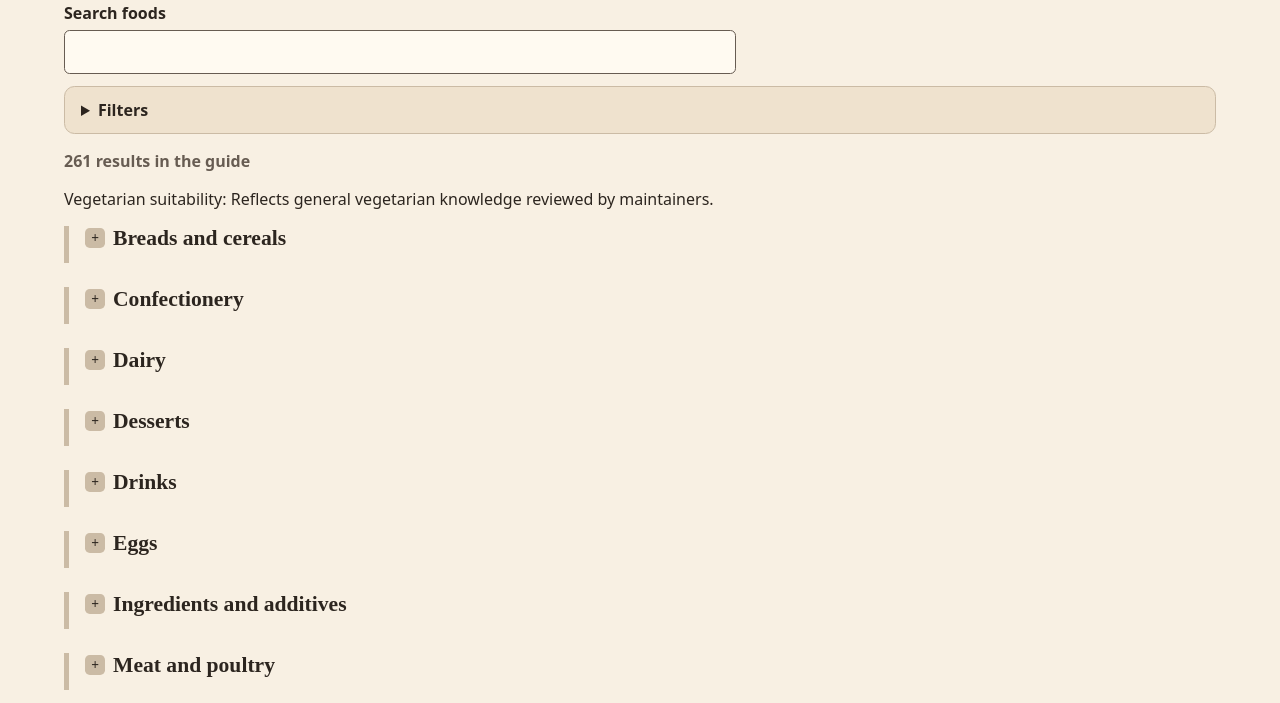
Test: CataloguePage › collapses an expanded nested group without affecting its siblings
(page scrolled)
Click the button "+ Dairy". click: (125, 360)
box: [85,348,166,373]
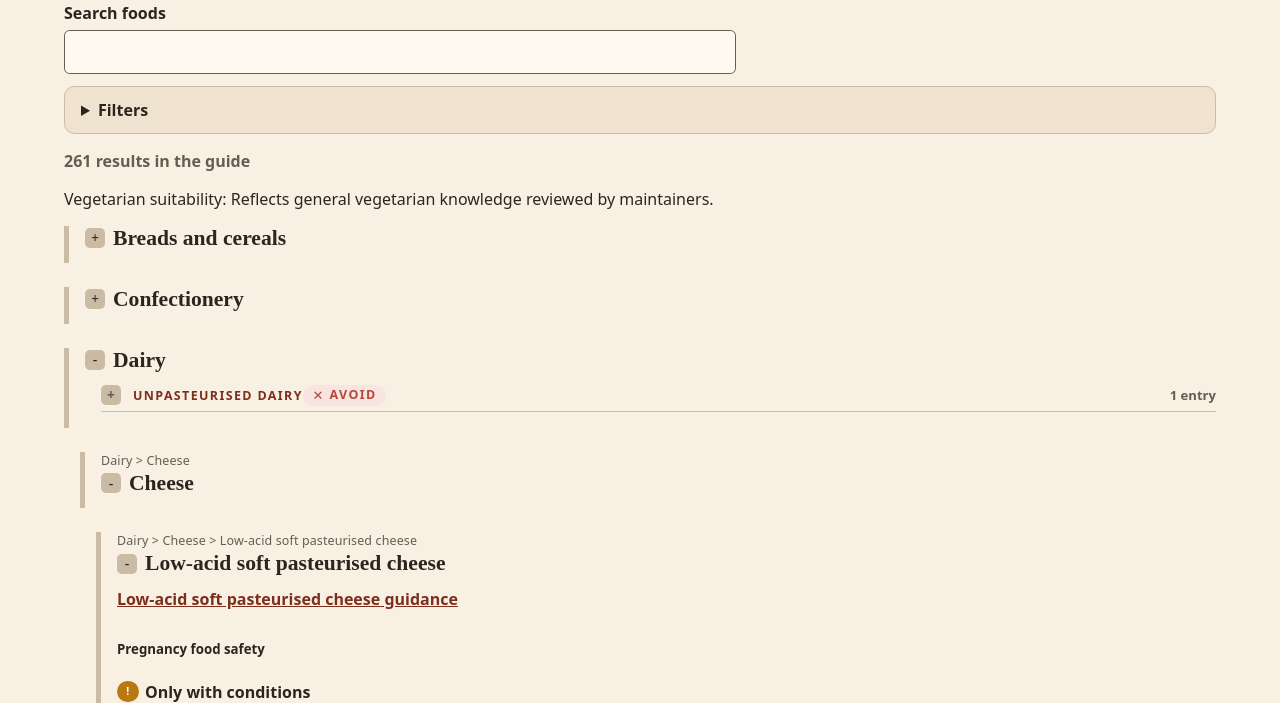
Click the button "- Cheese". click: (147, 483)
box: [101,471,194,496]
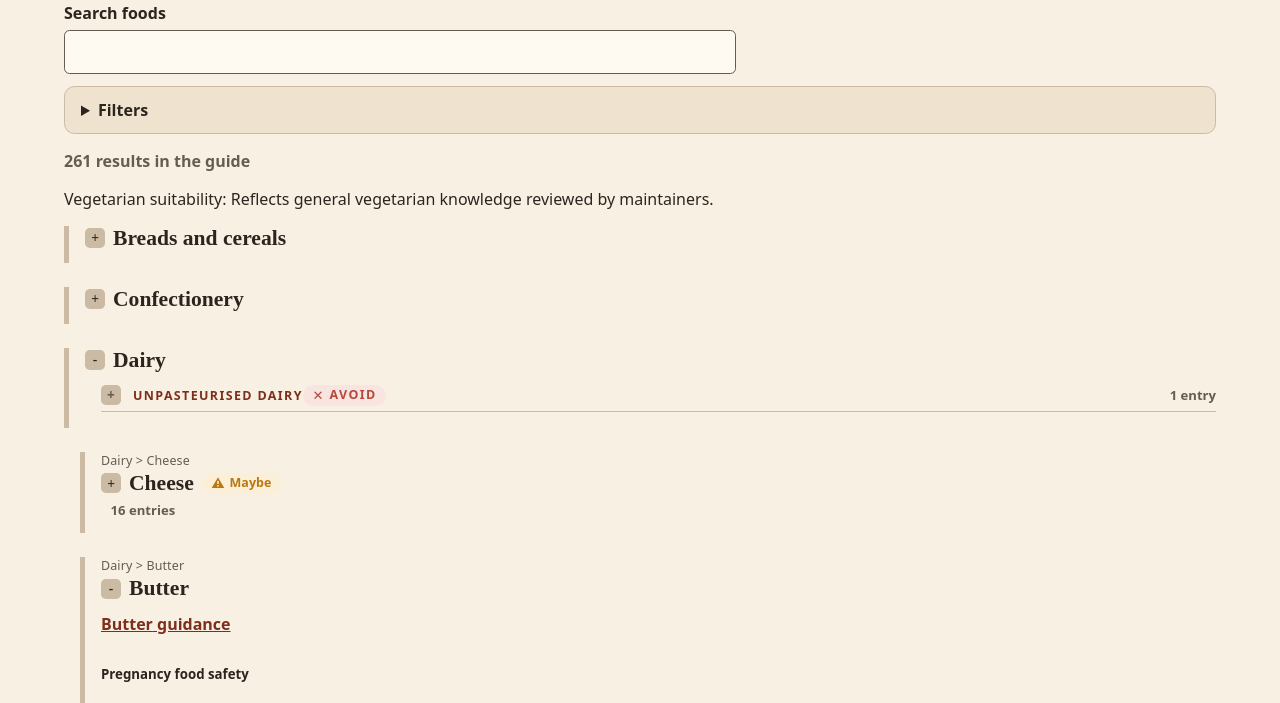
Expected: the heading "- Butter" is shown, [101,576,189,601]
Expected: the button with aria-label "Cheese, level 2" is collapsed, [101,471,281,496]
